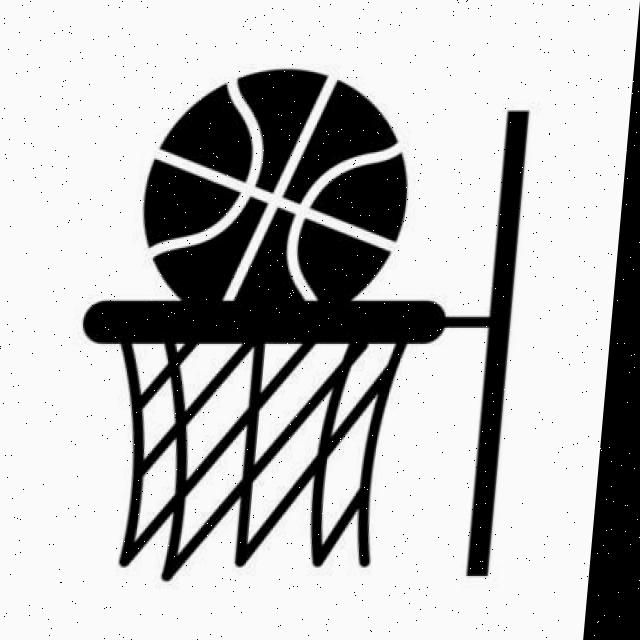basketball: (134, 70, 417, 304)
hoop: (59, 301, 448, 579)
